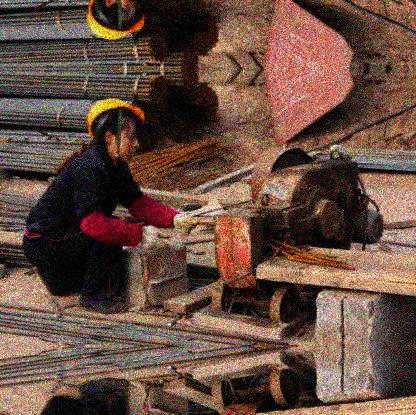helmet: (86, 98, 150, 163), (85, 1, 145, 41)
